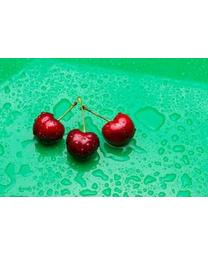cherry: (32, 111, 65, 147), (102, 112, 135, 147), (66, 129, 100, 161)
